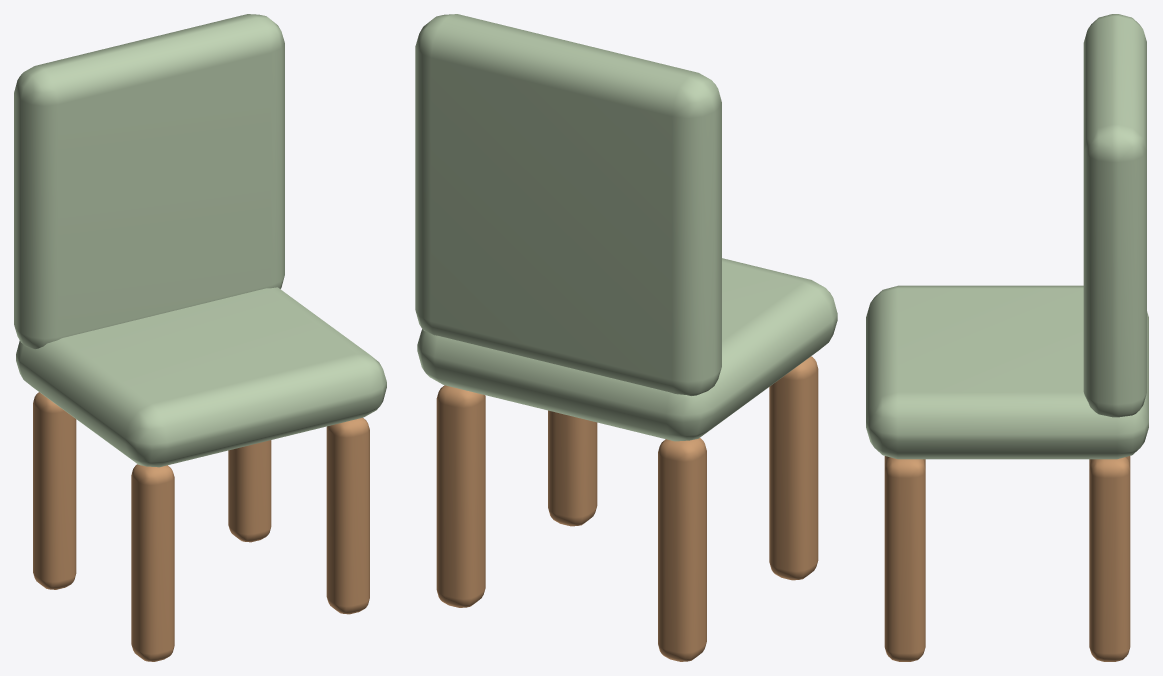
File: chairClassicA.glb
The picture shows the model from 3 angles, left to right: view 1: azimuth 30°, elevation 25°; view 2: azimuth 150°, elevation 25°; view 3: azimuth 270°, elevation 25°; orthographic projection. The views are drawn at different scales.
Visible parts, largest first — view 1: Backrest, Seat, Leg, Leg.002, Leg.001, Leg.003; view 2: Backrest, Seat, Leg.003, Leg.001, Leg, Leg.002; view 3: Seat, Backrest, Leg.002, Leg.003.
Boxes of the visible parts, left/top/right/bottom form: Backrest: left=14, top=14, right=284, bottom=349; Seat: left=16, top=287, right=386, bottom=467; Leg: left=131, top=464, right=174, bottom=661; Leg.002: left=326, top=417, right=369, bottom=614; Leg.001: left=33, top=392, right=76, bottom=589; Leg.003: left=228, top=440, right=271, bottom=542; Backrest: left=415, top=14, right=721, bottom=395; Seat: left=417, top=258, right=837, bottom=441; Leg.003: left=436, top=385, right=485, bottom=607; Leg.001: left=658, top=438, right=706, bottom=661; Leg: left=769, top=356, right=818, bottom=580; Leg.002: left=548, top=410, right=597, bottom=526; Seat: left=866, top=285, right=1148, bottom=459; Backrest: left=1083, top=14, right=1146, bottom=417; Leg.002: left=884, top=457, right=925, bottom=661; Leg.003: left=1089, top=457, right=1130, bottom=661.
Size of the model in its own units: 0.84 by 1.59 by 0.76.
